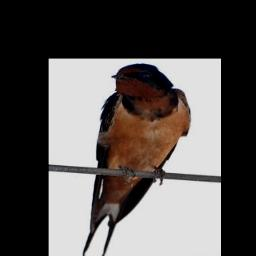Swallow: (81, 62, 193, 256)
